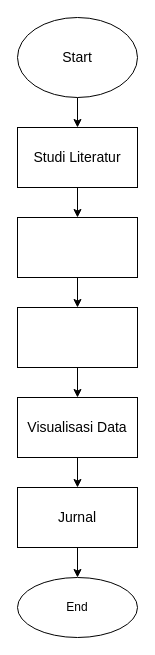
Some shapes in this 155 by 655 pixel diagram are drawn without their labels. Each missing label, with the centre of its shape:
"Data Preparation" belongs at [77,247].
"Pre-Processing Data" belongs at [77,337].
